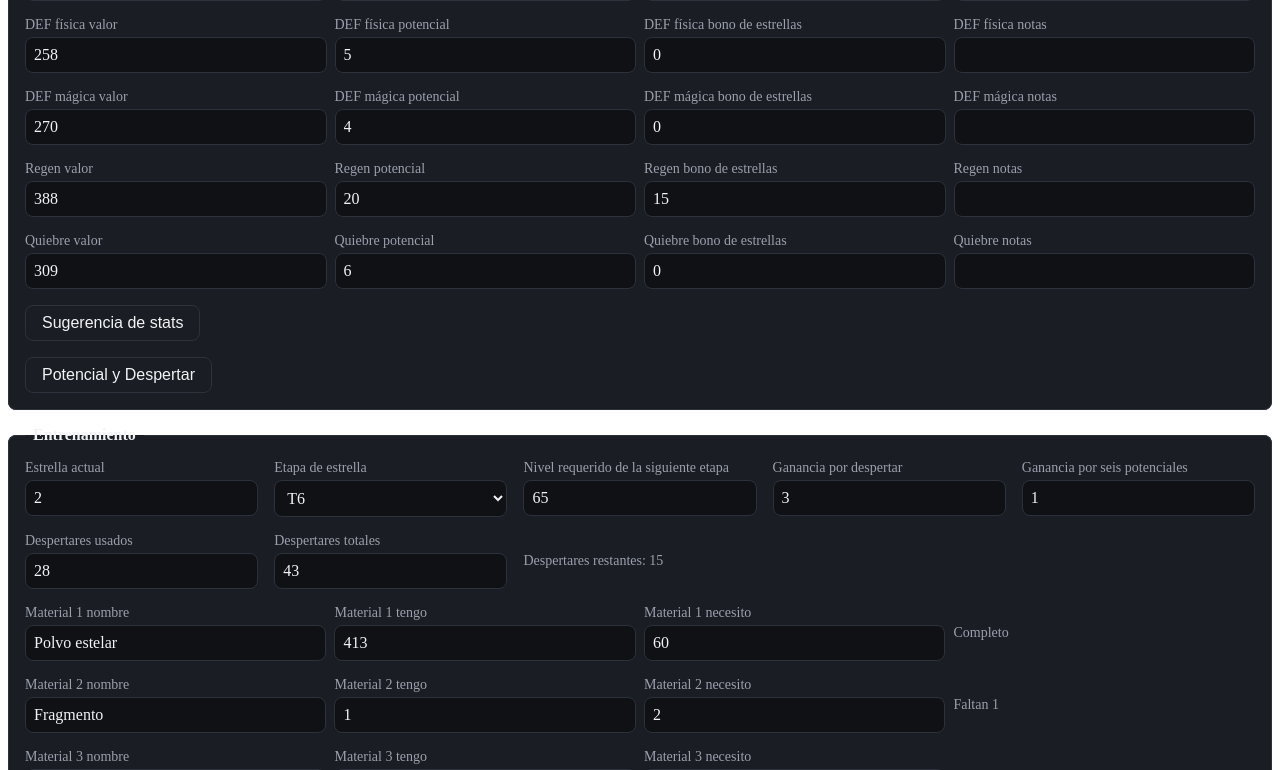
Test: calcular potencial › muestra el sin cupo cuando el backend lo indica
(page scrolled)
Click the button "Potencial y Despertar" at (118,375), box x1=25 y1=357 x2=212 y2=393
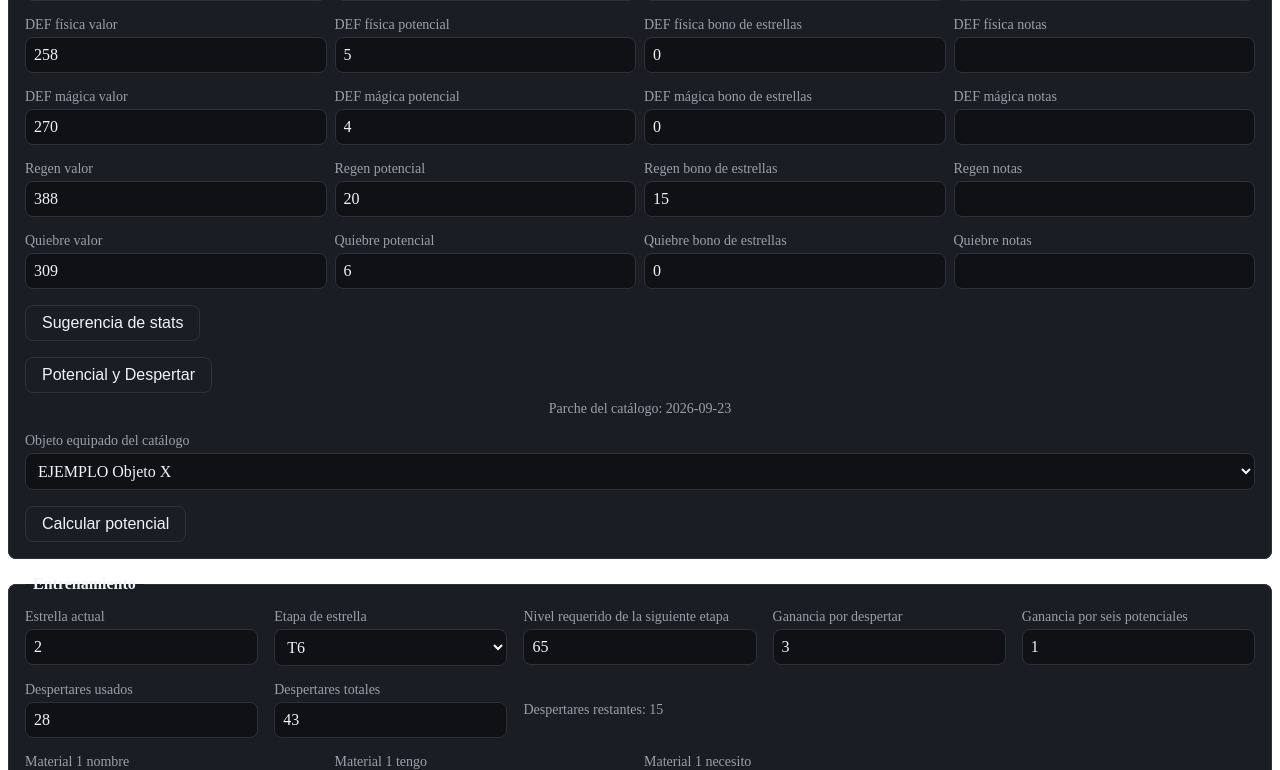
Now the button "Calcular potencial" is shown
Click the button "Calcular potencial" at (106,524), box x1=25 y1=506 x2=186 y2=542
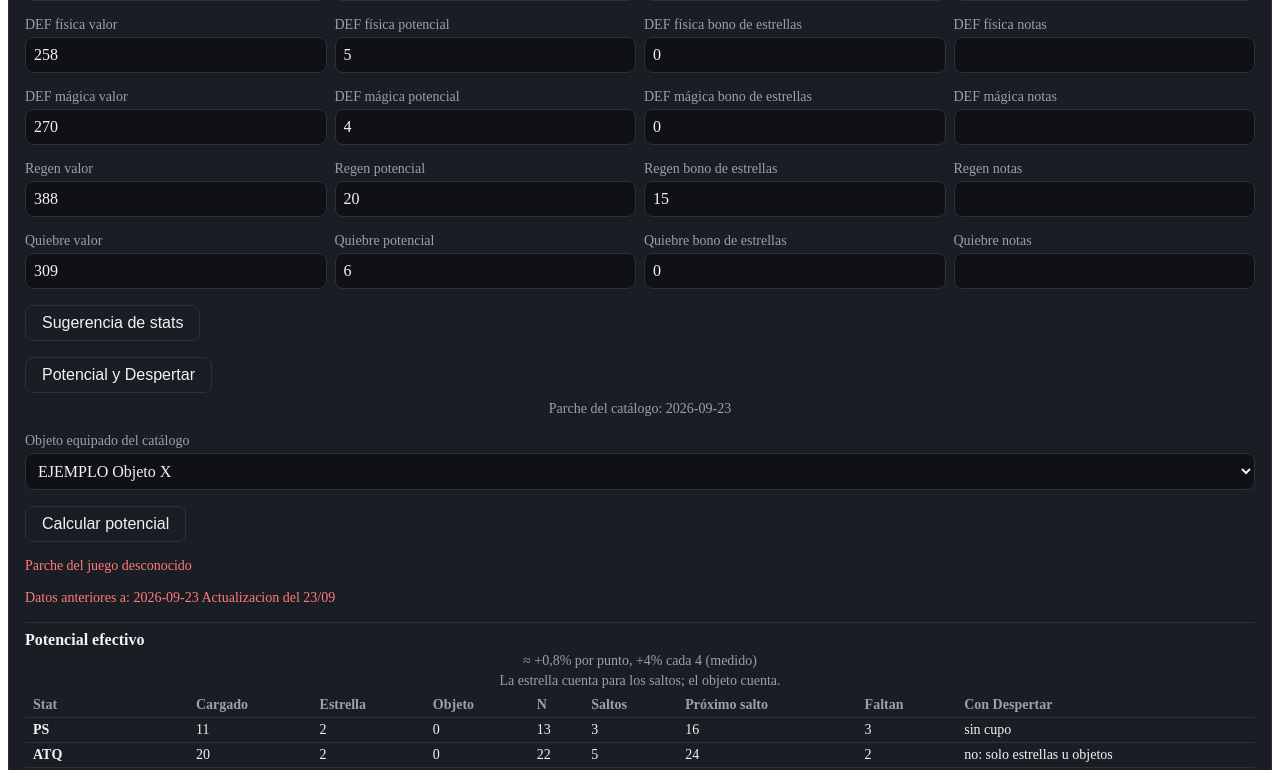
Now the cell "sin cupo" is shown, box x1=956 y1=718 x2=1255 y2=742
